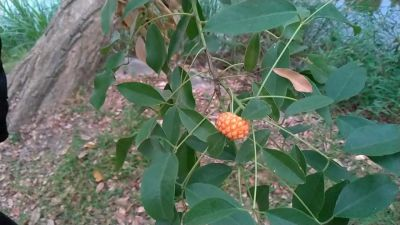eggs: (211, 106, 251, 140)
